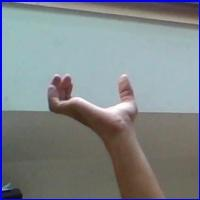B: (42, 65, 144, 134)
